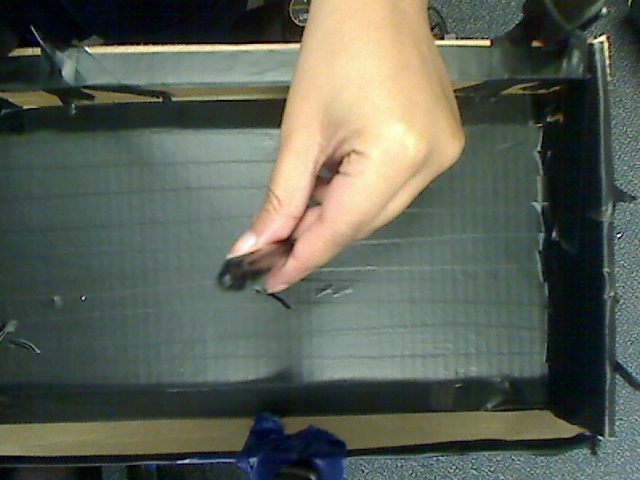pen: (204, 215, 313, 309)
